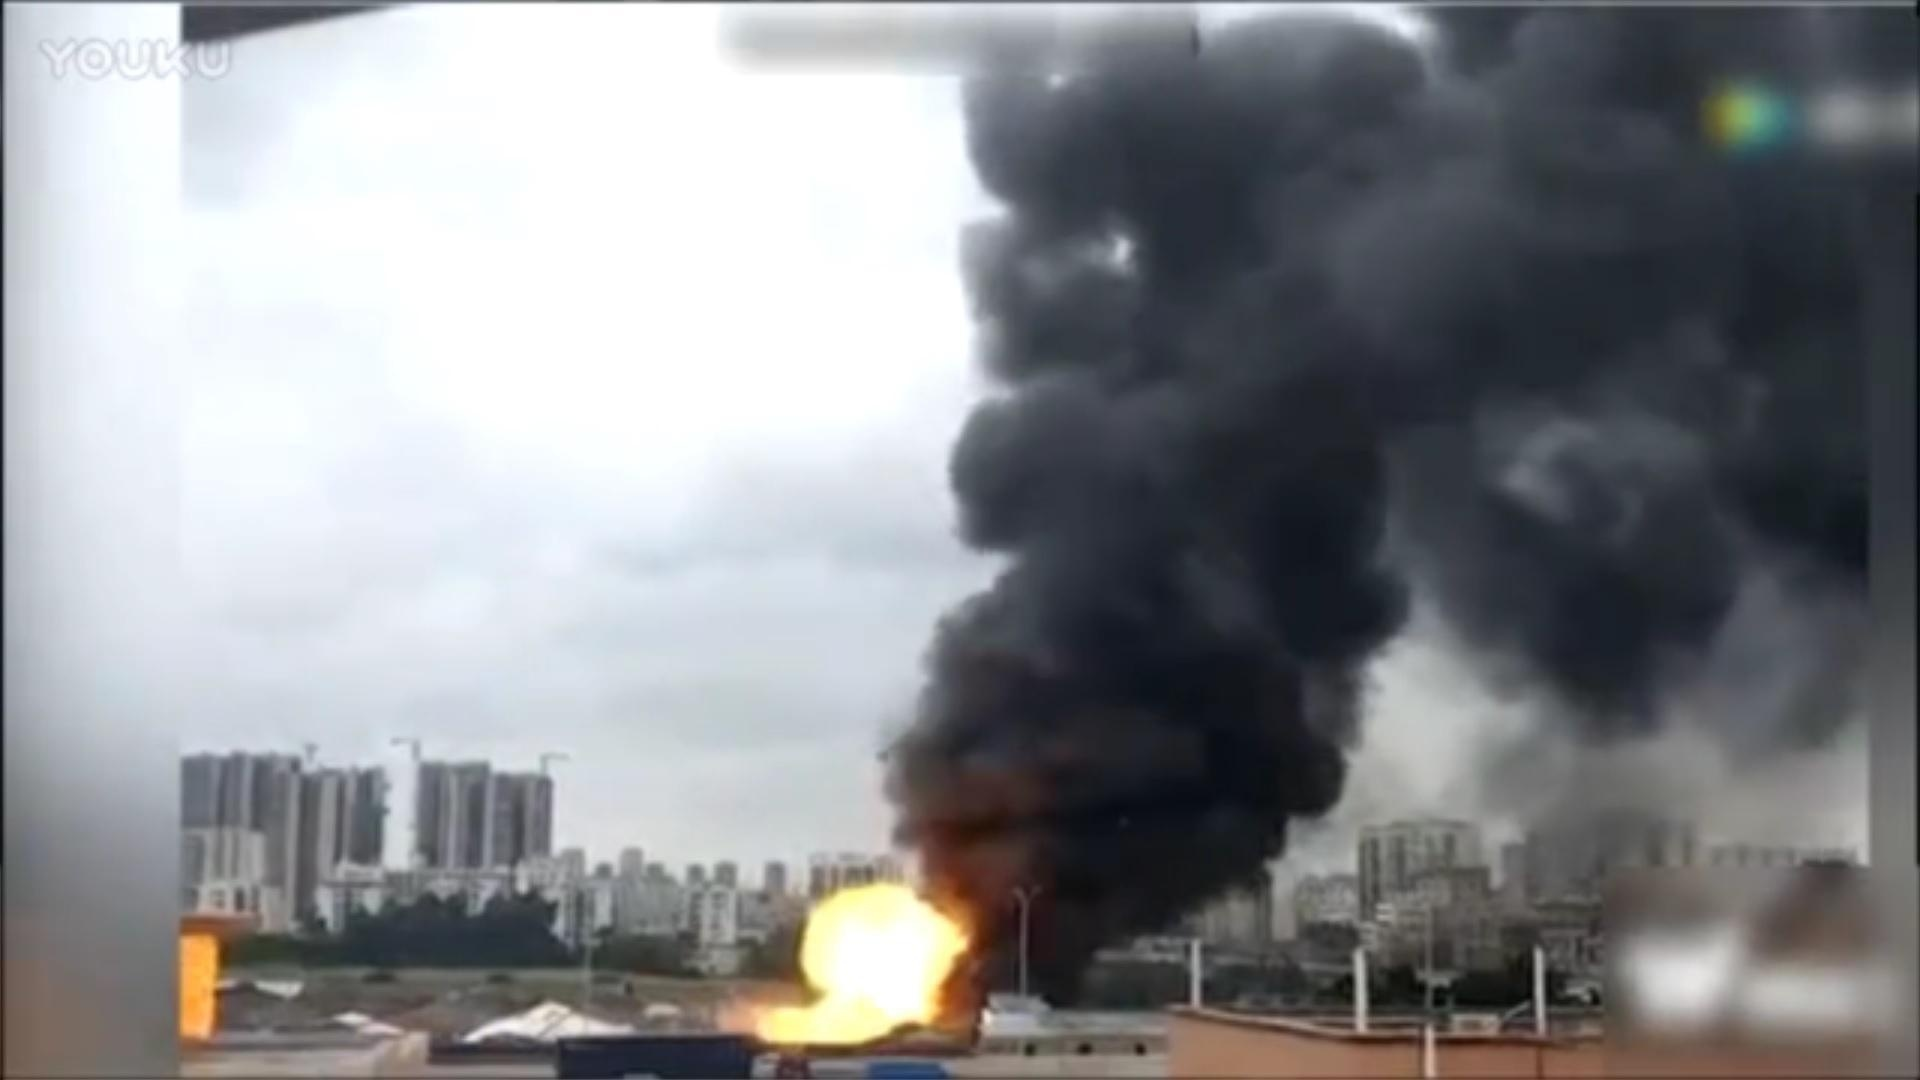fire: (750, 880, 968, 1036)
